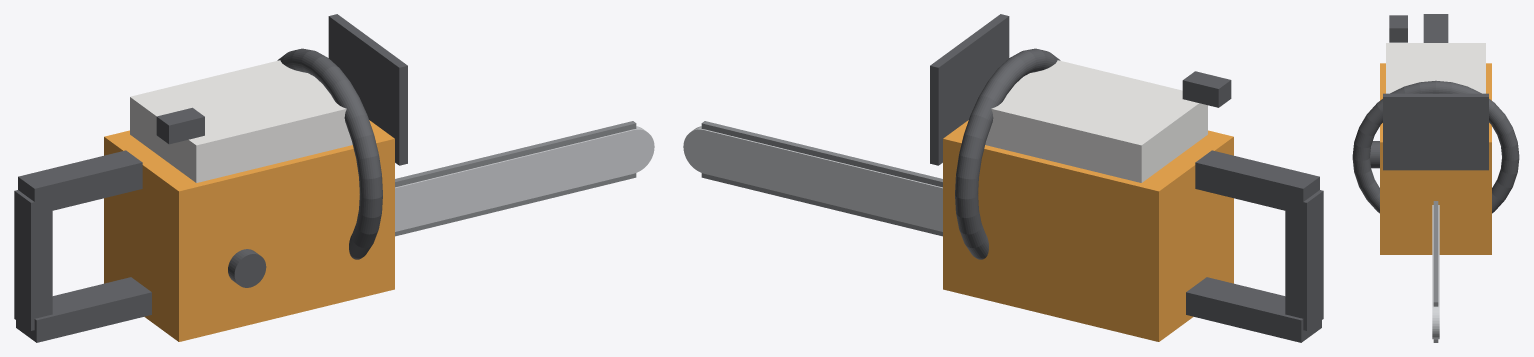
The model's file is motosierra-maqueta.glb.
The picture shows the model from 3 angles, left to right: view 1: azimuth 30°, elevation 25°; view 2: azimuth 150°, elevation 25°; view 3: azimuth 270°, elevation 25°; orthographic projection. The views are drawn at different scales.
Parts seen in each view (by area): view 1: carcasa, tapa, espada, freno_cadena, asa_delantera, empunadura_trasera, base_trasera, soporte_trasero, cadena, arranque, tapon_combustible, punta; view 2: carcasa, tapa, espada, freno_cadena, asa_delantera, empunadura_trasera, base_trasera, soporte_trasero, cadena, arranque, punta; view 3: carcasa, freno_cadena, asa_delantera, tapa, empunadura_trasera, cadena, arranque, espada, punta, tapon_combustible.
Boxes of the visible parts, left/top/right/bottom form: carcasa: left=104, top=120, right=394, bottom=341; tapa: left=130, top=60, right=352, bottom=182; espada: left=395, top=129, right=633, bottom=231; freno_cadena: left=328, top=14, right=407, bottom=165; asa_delantera: left=277, top=48, right=382, bottom=259; empunadura_trasera: left=18, top=150, right=142, bottom=214; base_trasera: left=16, top=277, right=151, bottom=342; soporte_trasero: left=14, top=190, right=52, bottom=330; cadena: left=395, top=121, right=636, bottom=236; arranque: left=156, top=107, right=204, bottom=144; tapon_combustible: left=228, top=249, right=266, bottom=287; punta: left=615, top=126, right=654, bottom=173; carcasa: left=943, top=120, right=1233, bottom=341; tapa: left=985, top=60, right=1207, bottom=182; espada: left=704, top=129, right=942, bottom=231; freno_cadena: left=930, top=14, right=1009, bottom=165; asa_delantera: left=955, top=48, right=1060, bottom=259; empunadura_trasera: left=1195, top=150, right=1319, bottom=214; base_trasera: left=1186, top=277, right=1321, bottom=342; soporte_trasero: left=1285, top=190, right=1323, bottom=330; cadena: left=701, top=121, right=942, bottom=236; arranque: left=1182, top=71, right=1231, bottom=107; punta: left=683, top=126, right=724, bottom=173; carcasa: left=1380, top=63, right=1491, bottom=254; freno_cadena: left=1383, top=93, right=1488, bottom=170; asa_delantera: left=1352, top=80, right=1519, bottom=213; tapa: left=1386, top=43, right=1485, bottom=93; empunadura_trasera: left=1423, top=14, right=1448, bottom=42; cadena: left=1433, top=201, right=1438, bottom=342; arranque: left=1389, top=15, right=1407, bottom=42; espada: left=1432, top=205, right=1439, bottom=304; punta: left=1432, top=305, right=1439, bottom=339; tapon_combustible: left=1370, top=141, right=1379, bottom=168.
Bounding box in the file's own units: 0.874 × 0.29 × 0.268.
